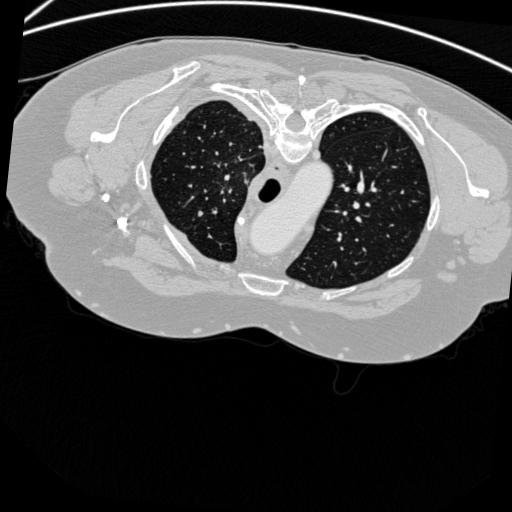nodule: (194, 209, 205, 220)
